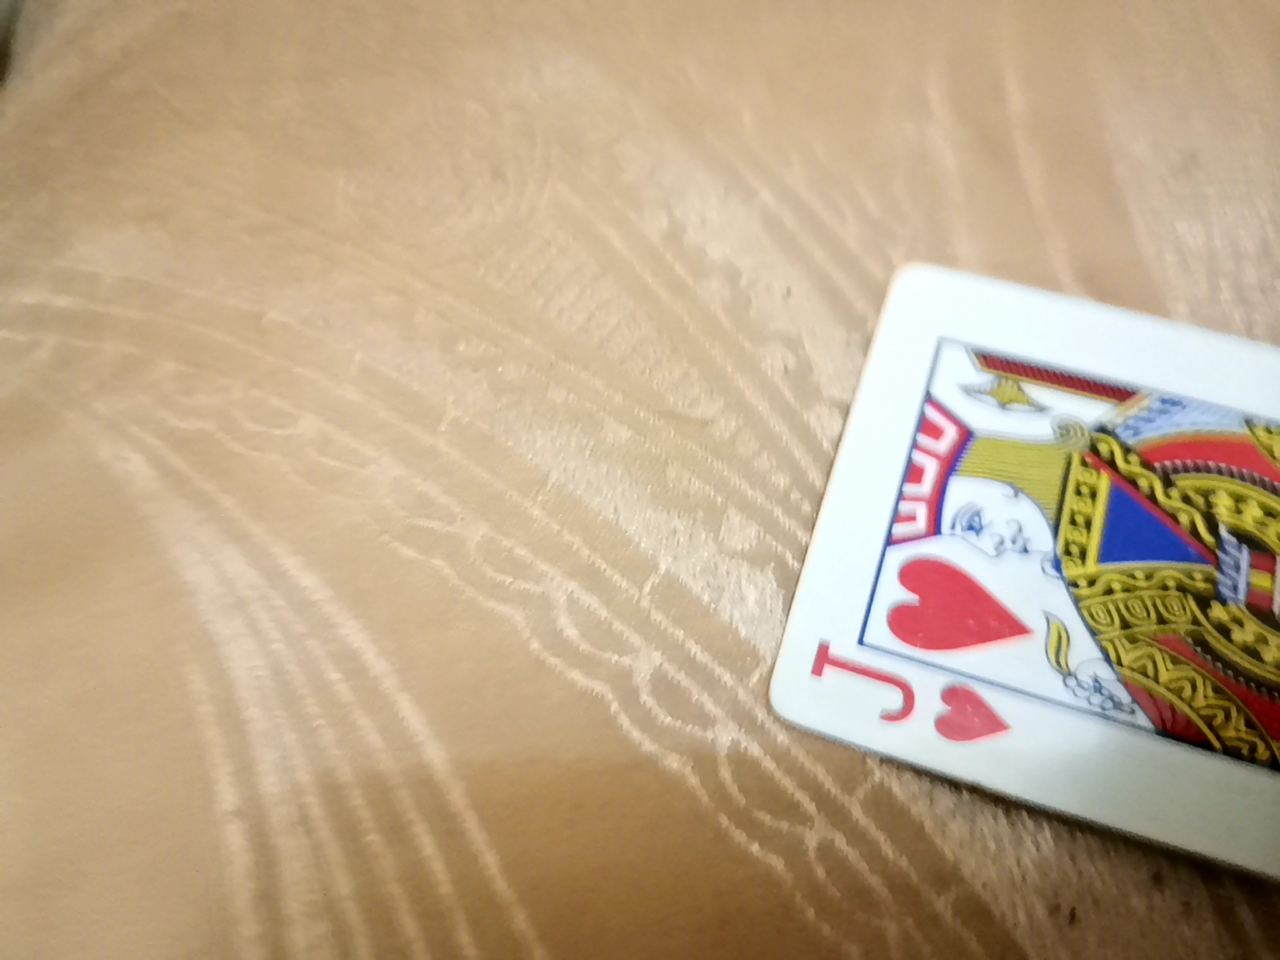hx j: (773, 267, 1274, 950)
